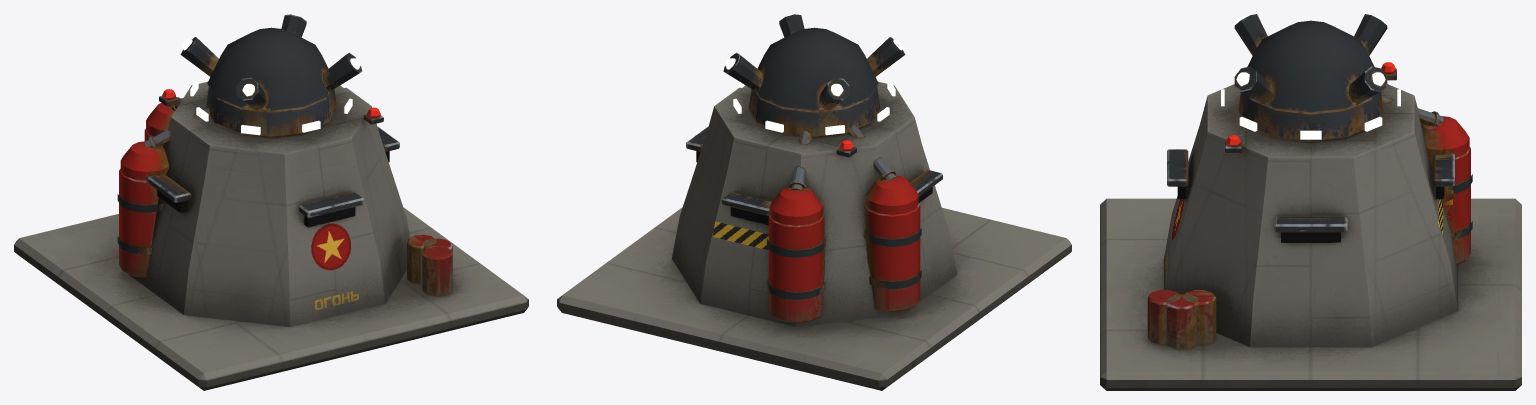
The model's file is ftur.soviet.glb.
3 views of the same model, side by side, from view 1: azimuth 30°, elevation 25°; view 2: azimuth 150°, elevation 25°; view 3: azimuth 270°, elevation 25° (orthographic). The views are drawn at different scales.
Parts seen in each view (by area): view 1: root_mesh; view 2: root_mesh; view 3: root_mesh.
Part boxes in pixels (x1=…): root_mesh: x1=14, y1=14, x2=528, y2=390; root_mesh: x1=557, y1=14, x2=1071, y2=390; root_mesh: x1=1100, y1=14, x2=1521, y2=390.
Size of the model in its own units: 0.98 by 0.71 by 0.98.
Materials: 2 (1 with a texture image).
